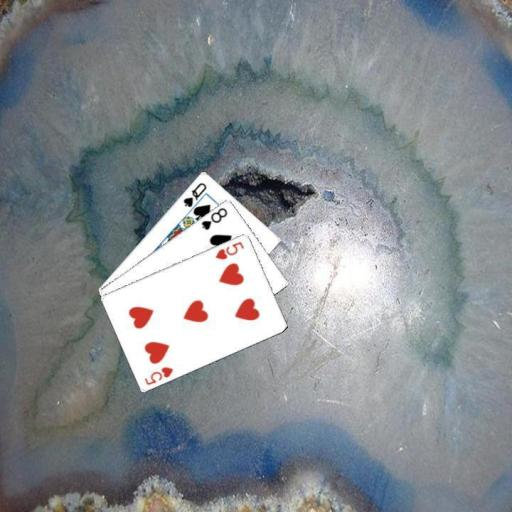card-corner: (198, 204, 229, 231), (180, 180, 208, 208), (141, 364, 175, 386), (213, 238, 245, 261)
